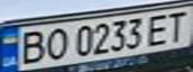0: (72, 23, 93, 57)
2: (90, 20, 115, 56)
3: (124, 15, 151, 51), (109, 17, 130, 53)
B: (12, 28, 51, 65)
E: (142, 11, 175, 46)
O: (39, 26, 69, 61)
T: (163, 8, 190, 43)
